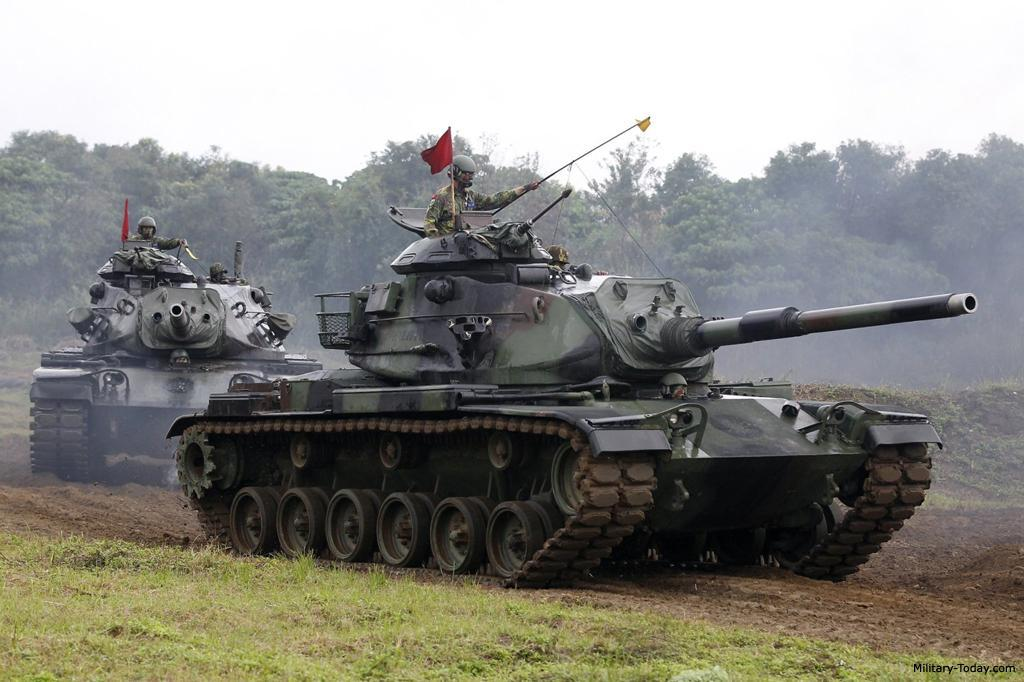tank: (160, 207, 984, 593), (24, 246, 327, 482)
